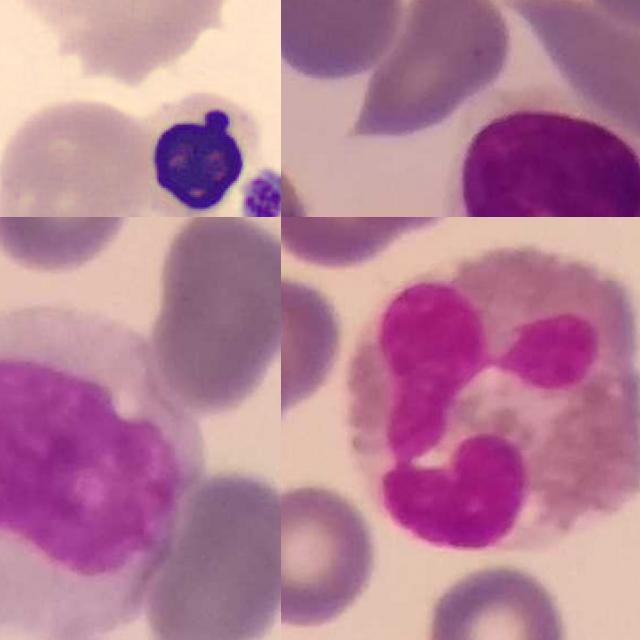Eosinophil: (349, 246, 640, 556)
Lymphocyte: (445, 88, 640, 217), (114, 81, 257, 217)
Monocyte: (0, 305, 199, 640)
Platelets: (235, 167, 281, 217)
RBC: (0, 87, 157, 217), (0, 0, 201, 45)
